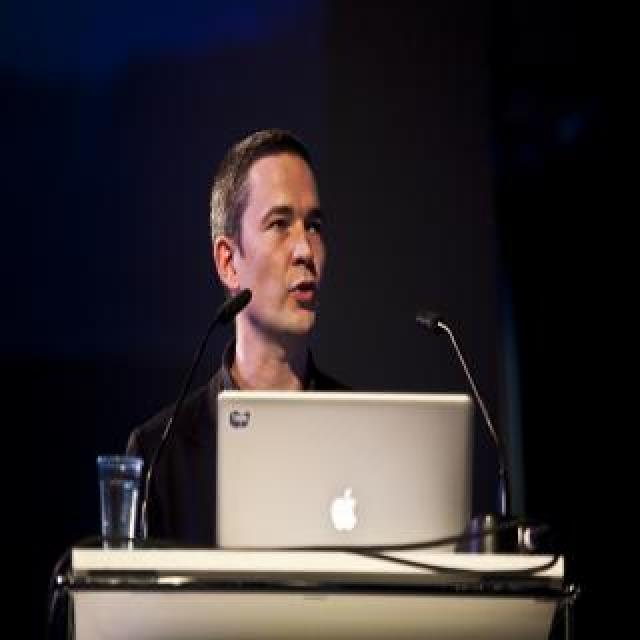laptop_computer: (208, 376, 490, 570)
